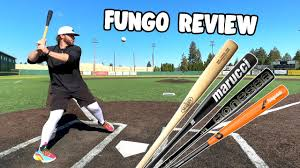baseball bat: (137, 39, 240, 168), (147, 51, 259, 168), (158, 66, 276, 168), (166, 84, 290, 168), (38, 8, 58, 62)
